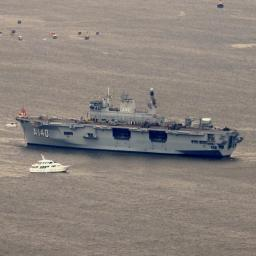Portanaves: (14, 85, 244, 161)
